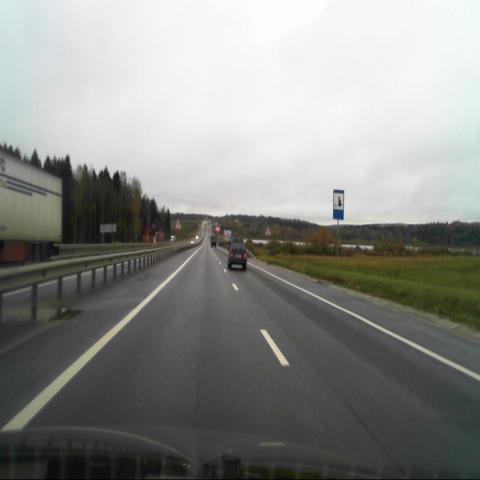7_11: (333, 189, 344, 219)
